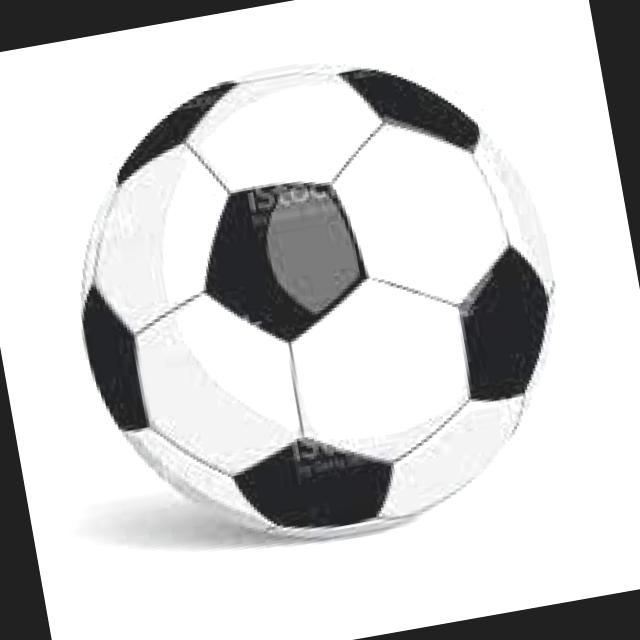Soccer Ball: (48, 28, 589, 574)
